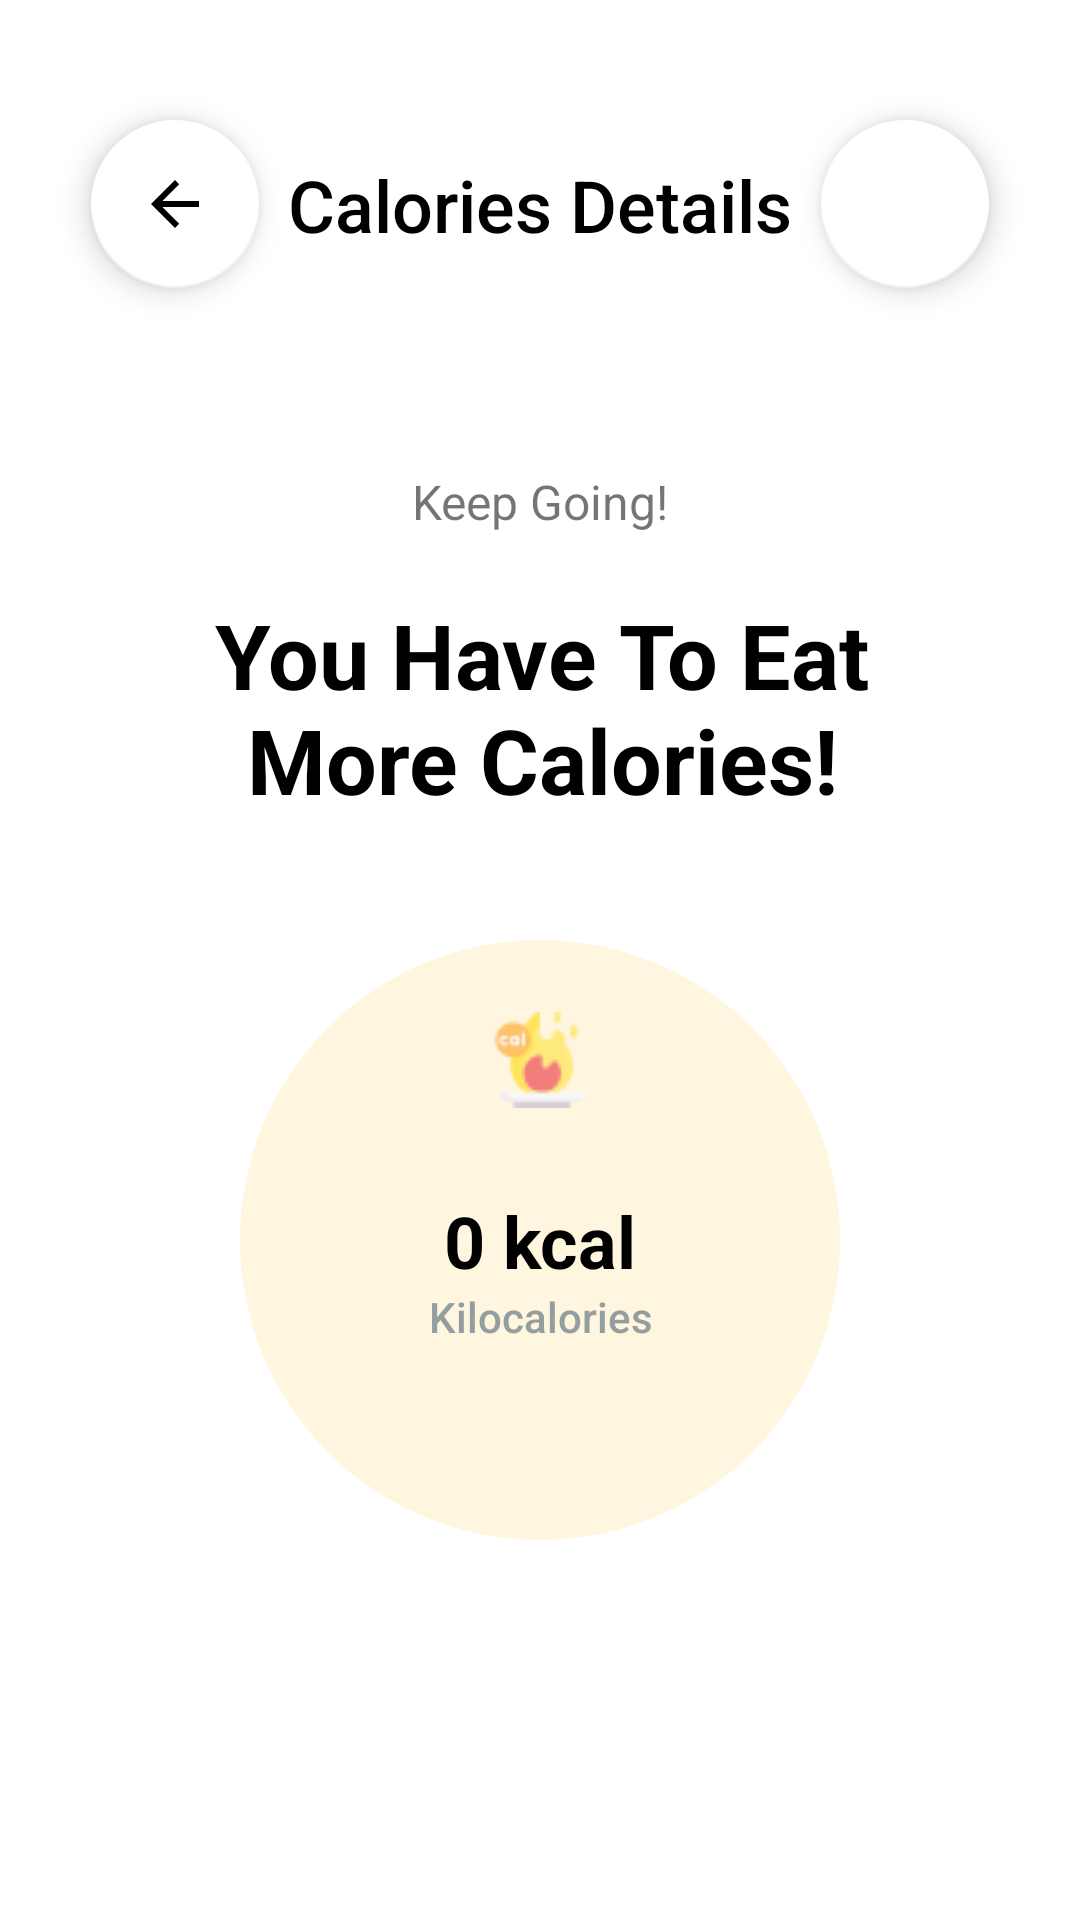

Locate icon controls on the screen. Image size 1080*1920, boxes as (x1, y1, x2, y2).
calories: (494, 1012, 579, 1108)
